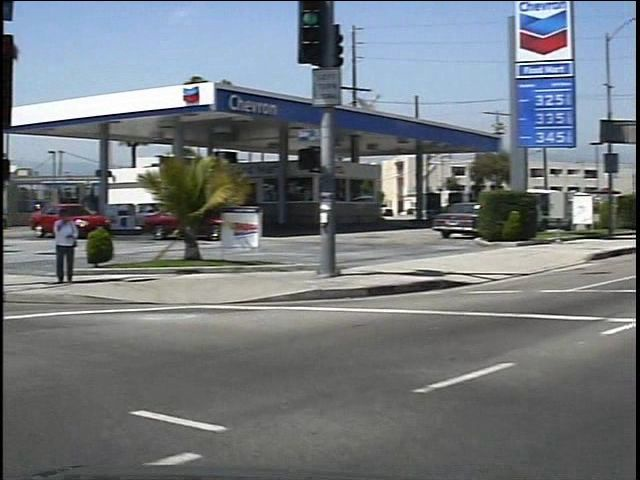person: (41, 203, 73, 289)
